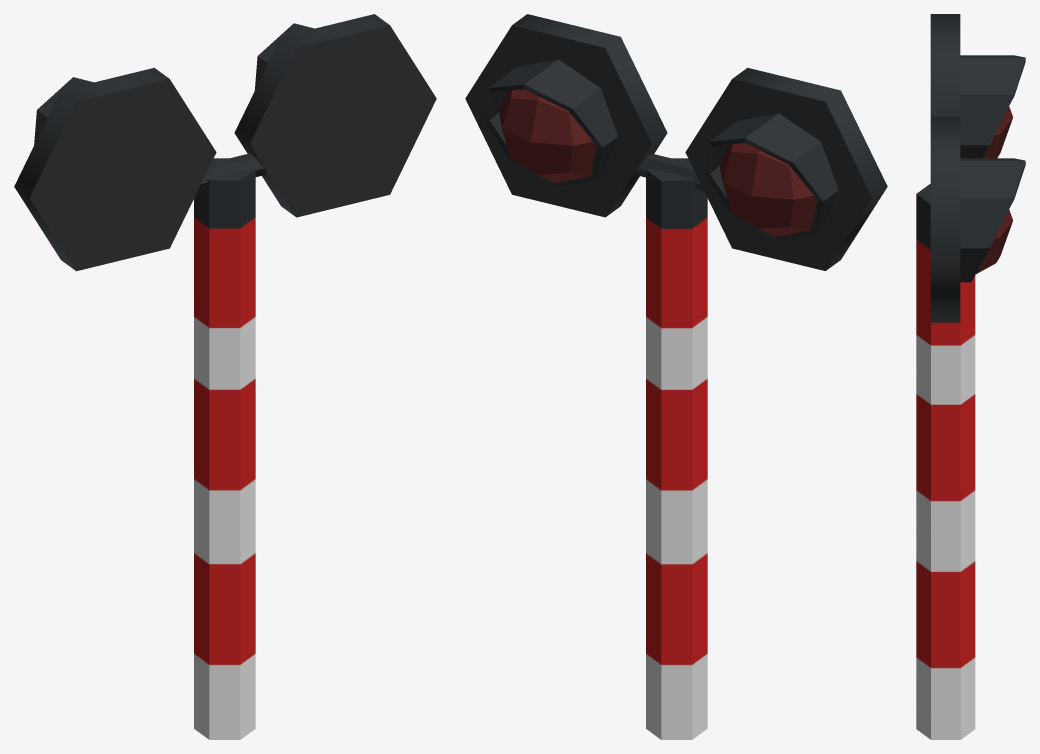
Rendered from BarrierLights.FBX.
3 views of the same model, side by side, from view 1: azimuth 30°, elevation 25°; view 2: azimuth 150°, elevation 25°; view 3: azimuth 270°, elevation 25° (orthographic). The views are drawn at different scales.
Visible parts, largest first — view 1: Cylinder009, Cylinder004, Cylinder003, Cylinder005, Cylinder008; view 2: Cylinder009, Cylinder004, Cylinder003, Box003, Box004, Cylinder007, Cylinder008, Cylinder005; view 3: Cylinder009, Cylinder003, Cylinder007, Cylinder008, Cylinder004, Box003, Box004.
Boxes of the visible parts, x1=… form: Cylinder009: x1=194, y1=158, x2=255, y2=739; Cylinder004: x1=14, y1=67, x2=216, y2=271; Cylinder003: x1=234, y1=14, x2=436, y2=217; Cylinder005: x1=198, y1=153, x2=266, y2=191; Cylinder008: x1=34, y1=77, x2=93, y2=145; Cylinder009: x1=646, y1=158, x2=707, y2=739; Cylinder004: x1=685, y1=67, x2=887, y2=270; Cylinder003: x1=465, y1=14, x2=667, y2=217; Box003: x1=499, y1=89, x2=596, y2=183; Box004: x1=719, y1=143, x2=817, y2=236; Cylinder007: x1=483, y1=59, x2=617, y2=186; Cylinder008: x1=704, y1=113, x2=838, y2=240; Cylinder005: x1=635, y1=153, x2=704, y2=191; Cylinder009: x1=916, y1=183, x2=975, y2=739; Cylinder003: x1=930, y1=117, x2=960, y2=322; Cylinder007: x1=960, y1=158, x2=1025, y2=282; Cylinder008: x1=960, y1=55, x2=1025, y2=158; Cylinder004: x1=930, y1=14, x2=960, y2=116; Box003: x1=976, y1=209, x2=1012, y2=273; Box004: x1=983, y1=106, x2=1012, y2=158.
Size of the model in its own units: 1.52 by 0.3701 by 2.4.
